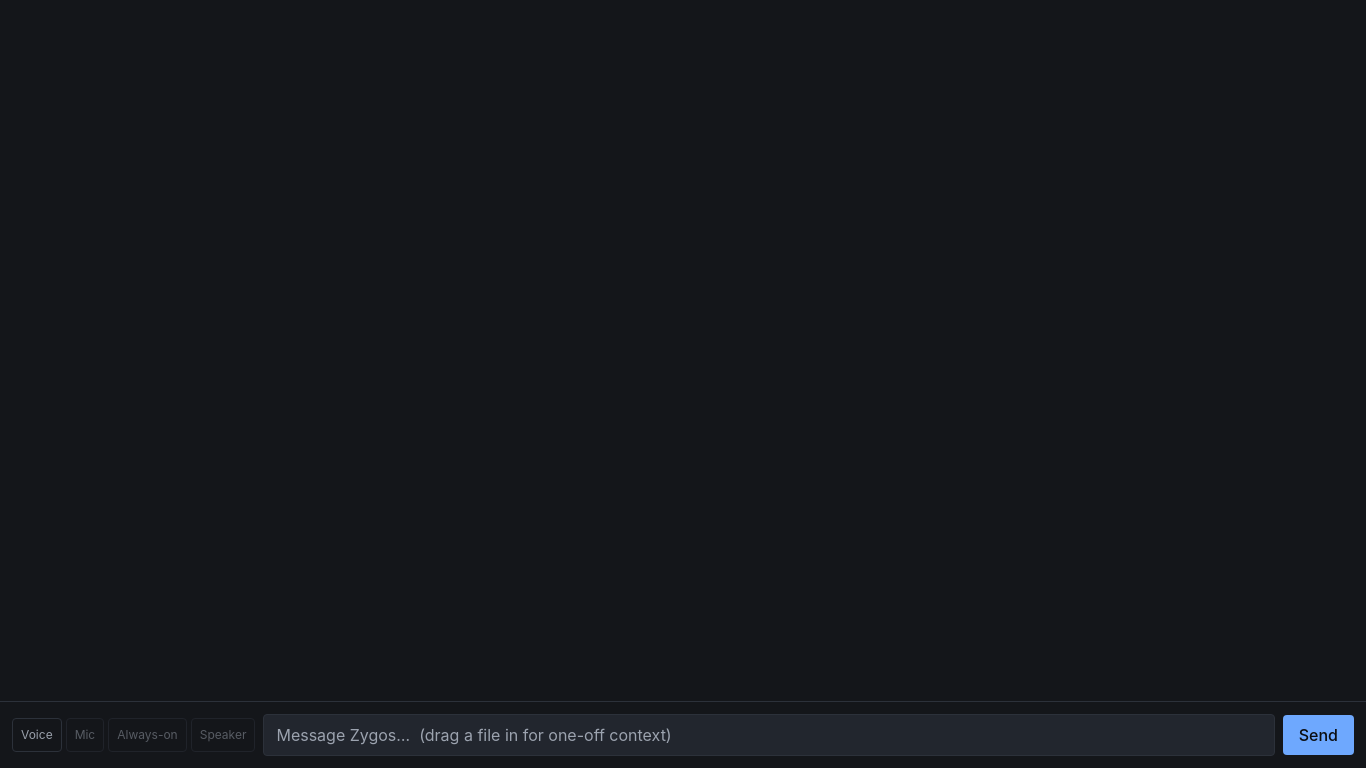
Test: submitting a message renders it and sends a user_message frame
Type "hello there" into the field.
click(769, 735); type("hello there")  # box [263,714,1275,756]
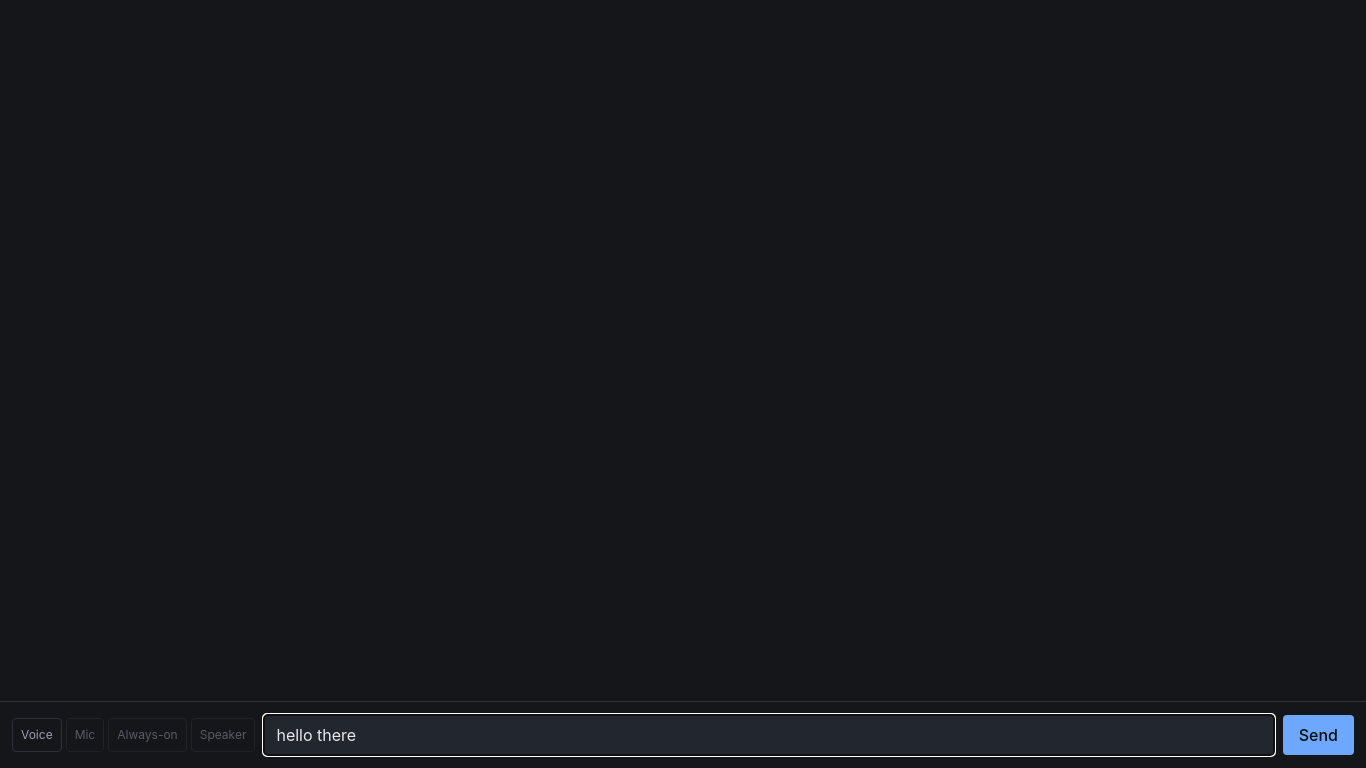
Click the button "Send".
click(1318, 735)  # box [1283,715,1354,755]
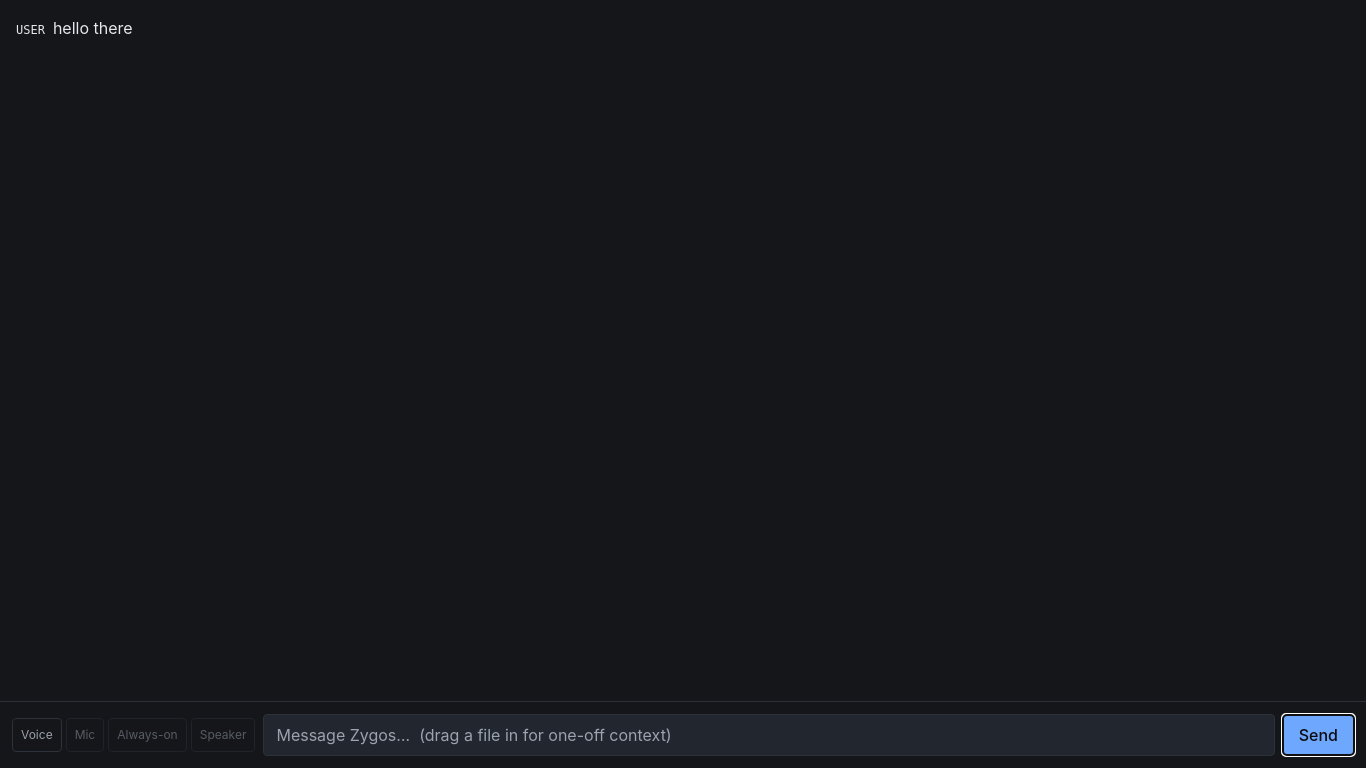
Expected: the text "hello there" is shown, [53,18,133,38]
